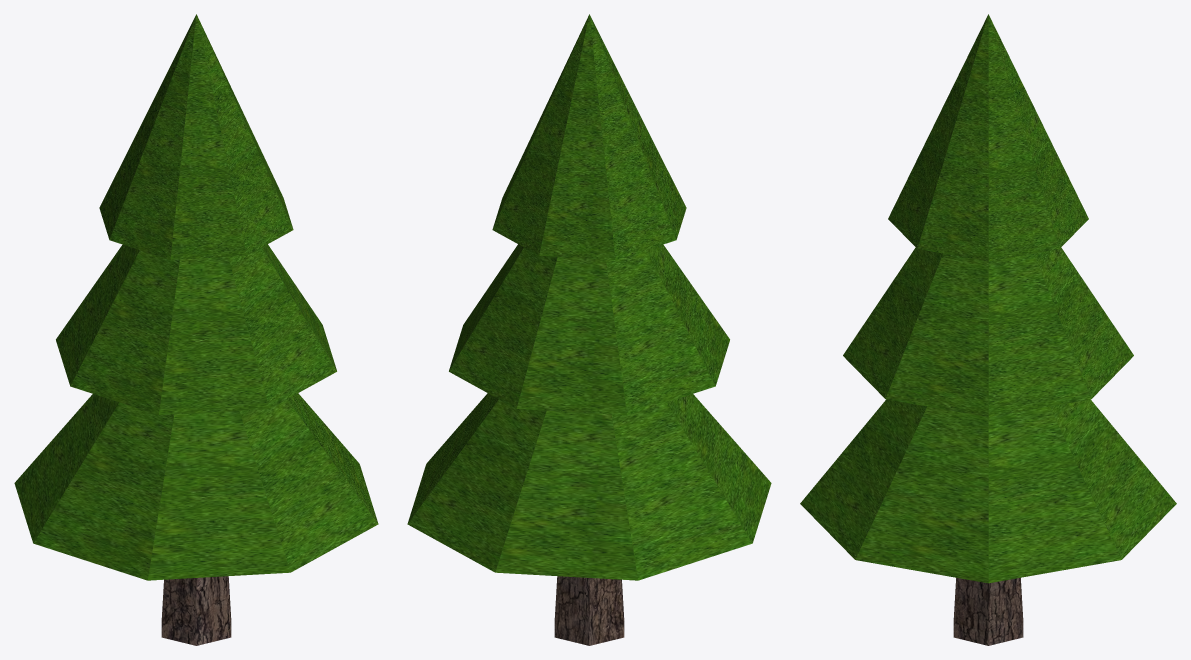
File: tree_pine.glb
The picture shows the model from 3 angles, left to right: view 1: azimuth 30°, elevation 25°; view 2: azimuth 150°, elevation 25°; view 3: azimuth 270°, elevation 25°; orthographic projection.
Parts seen in each view (by area): view 1: _MeshInstance3D_9; view 2: _MeshInstance3D_9; view 3: _MeshInstance3D_9.
Boxes of the visible parts, box(x1,y1,x2,y2) form: _MeshInstance3D_9: box(14, 14, 378, 645); _MeshInstance3D_9: box(407, 14, 771, 645); _MeshInstance3D_9: box(800, 14, 1176, 645).
Size of the model in its own units: 1.5 by 2.7 by 1.5.
2 materials, 2 textured.
